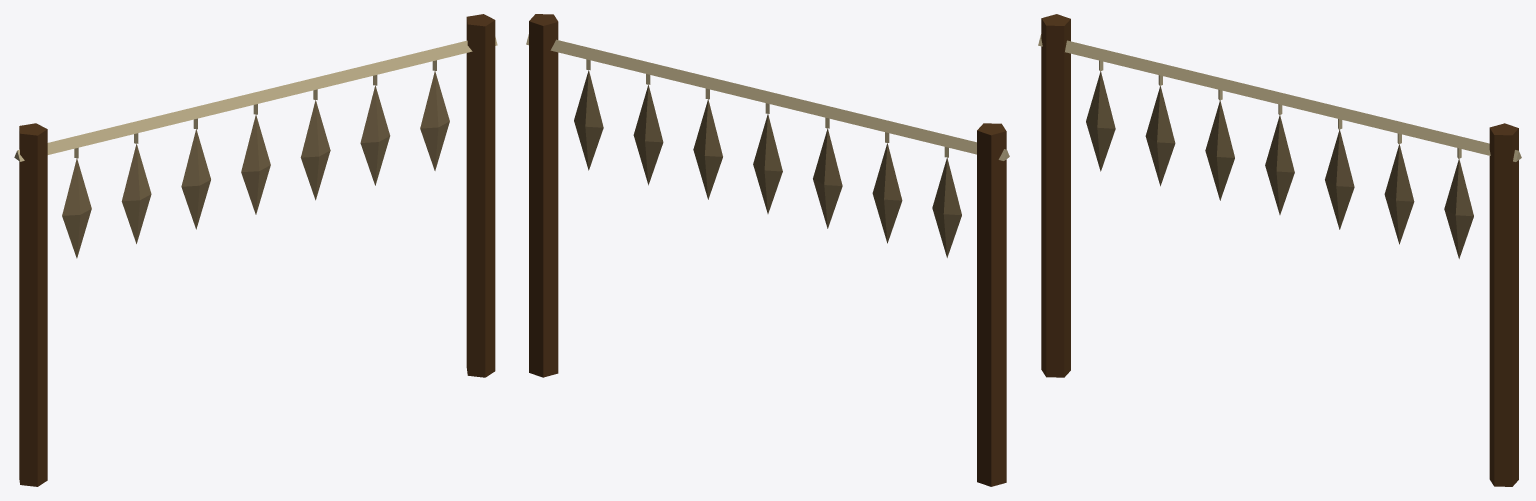
The model's file is fishdry.glb.
3 views of the same model, side by side, from view 1: azimuth 30°, elevation 25°; view 2: azimuth 150°, elevation 25°; view 3: azimuth 330°, elevation 25° (orthographic).
Visible parts, largest first — view 1: base; view 2: base; view 3: base.
Part boxes in pixels (<box>): base: <box>14,14,497,486</box>; base: <box>526,14,1009,486</box>; base: <box>1038,14,1521,486</box>.
Bounding box in the file's own units: 0.64 × 0.45 × 0.0338.
